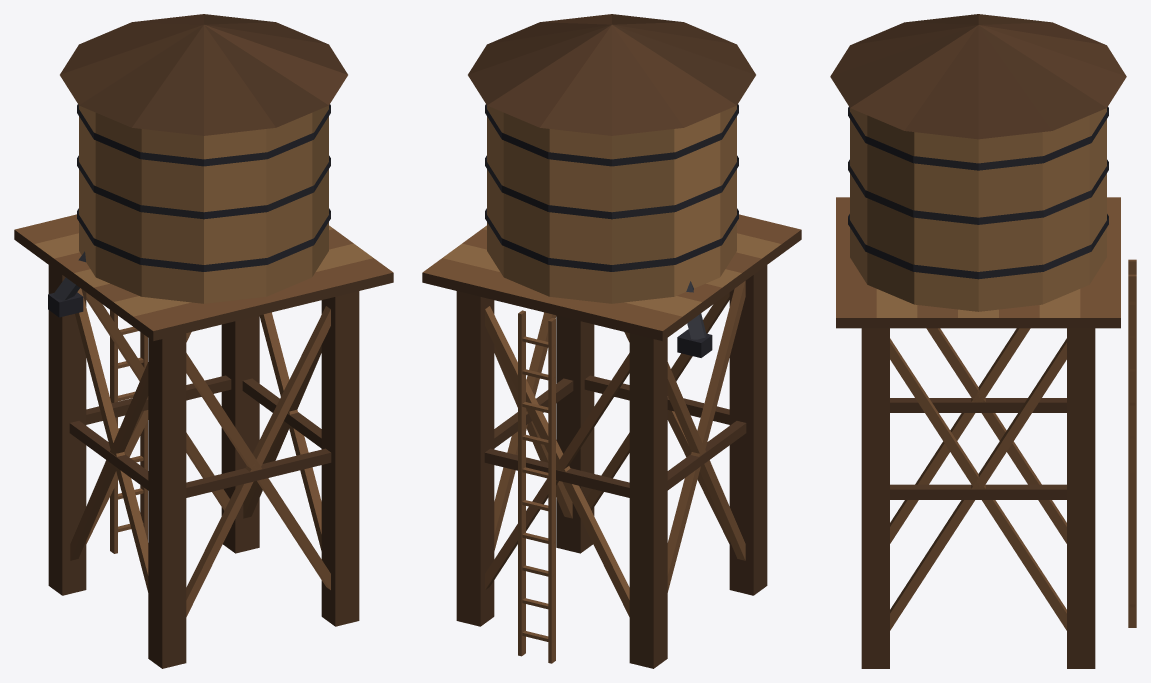
File: Decor_WesternSaloon_WaterTower.fbx
3 views of the same model, side by side, from view 1: azimuth 30°, elevation 25°; view 2: azimuth 150°, elevation 25°; view 3: azimuth 270°, elevation 25° (orthographic). The views are drawn at different scales.
Visible parts, largest first — view 1: WaterTower_Body; view 2: WaterTower_Body; view 3: WaterTower_Body.
Part boxes in pixels (x1,y1,x2,y2): WaterTower_Body: (14,14,393,668); WaterTower_Body: (422,14,801,668); WaterTower_Body: (830,14,1136,668).
Bounding box in the file's own units: 10.4 × 23 × 10.75.
